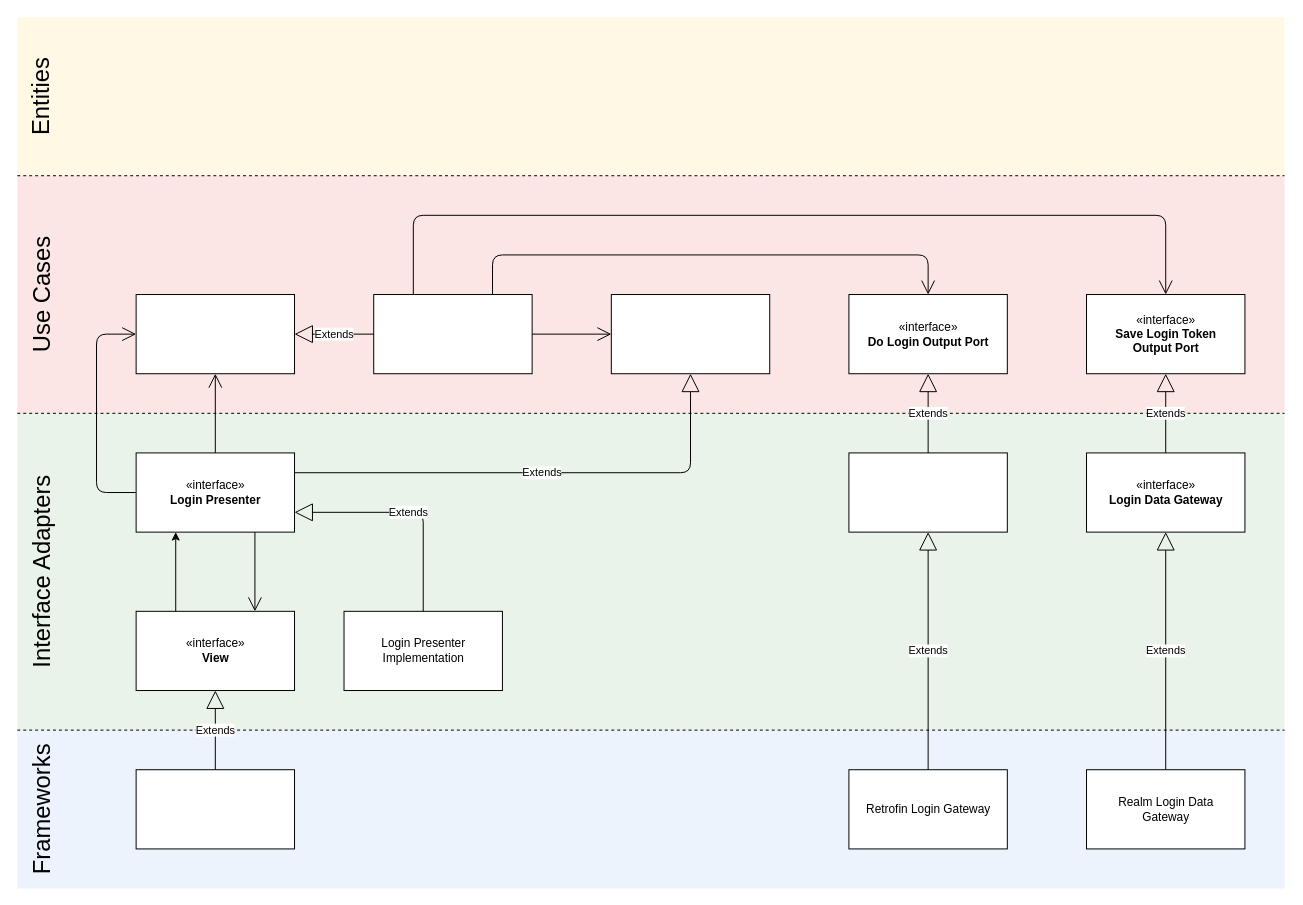
The diagram is 1303 pixels wide and 905 high, and some of its shapes have lost their labels. Each missing label, with the box of its shape:
Login Use Case: (373, 294, 532, 374)
View Implementation: (135, 769, 295, 849)
«interface» Login Gateway: (848, 452, 1007, 532)
«interface» Login Input Port: (135, 294, 295, 374)
«interface» On Login Output Port: (610, 294, 770, 374)
